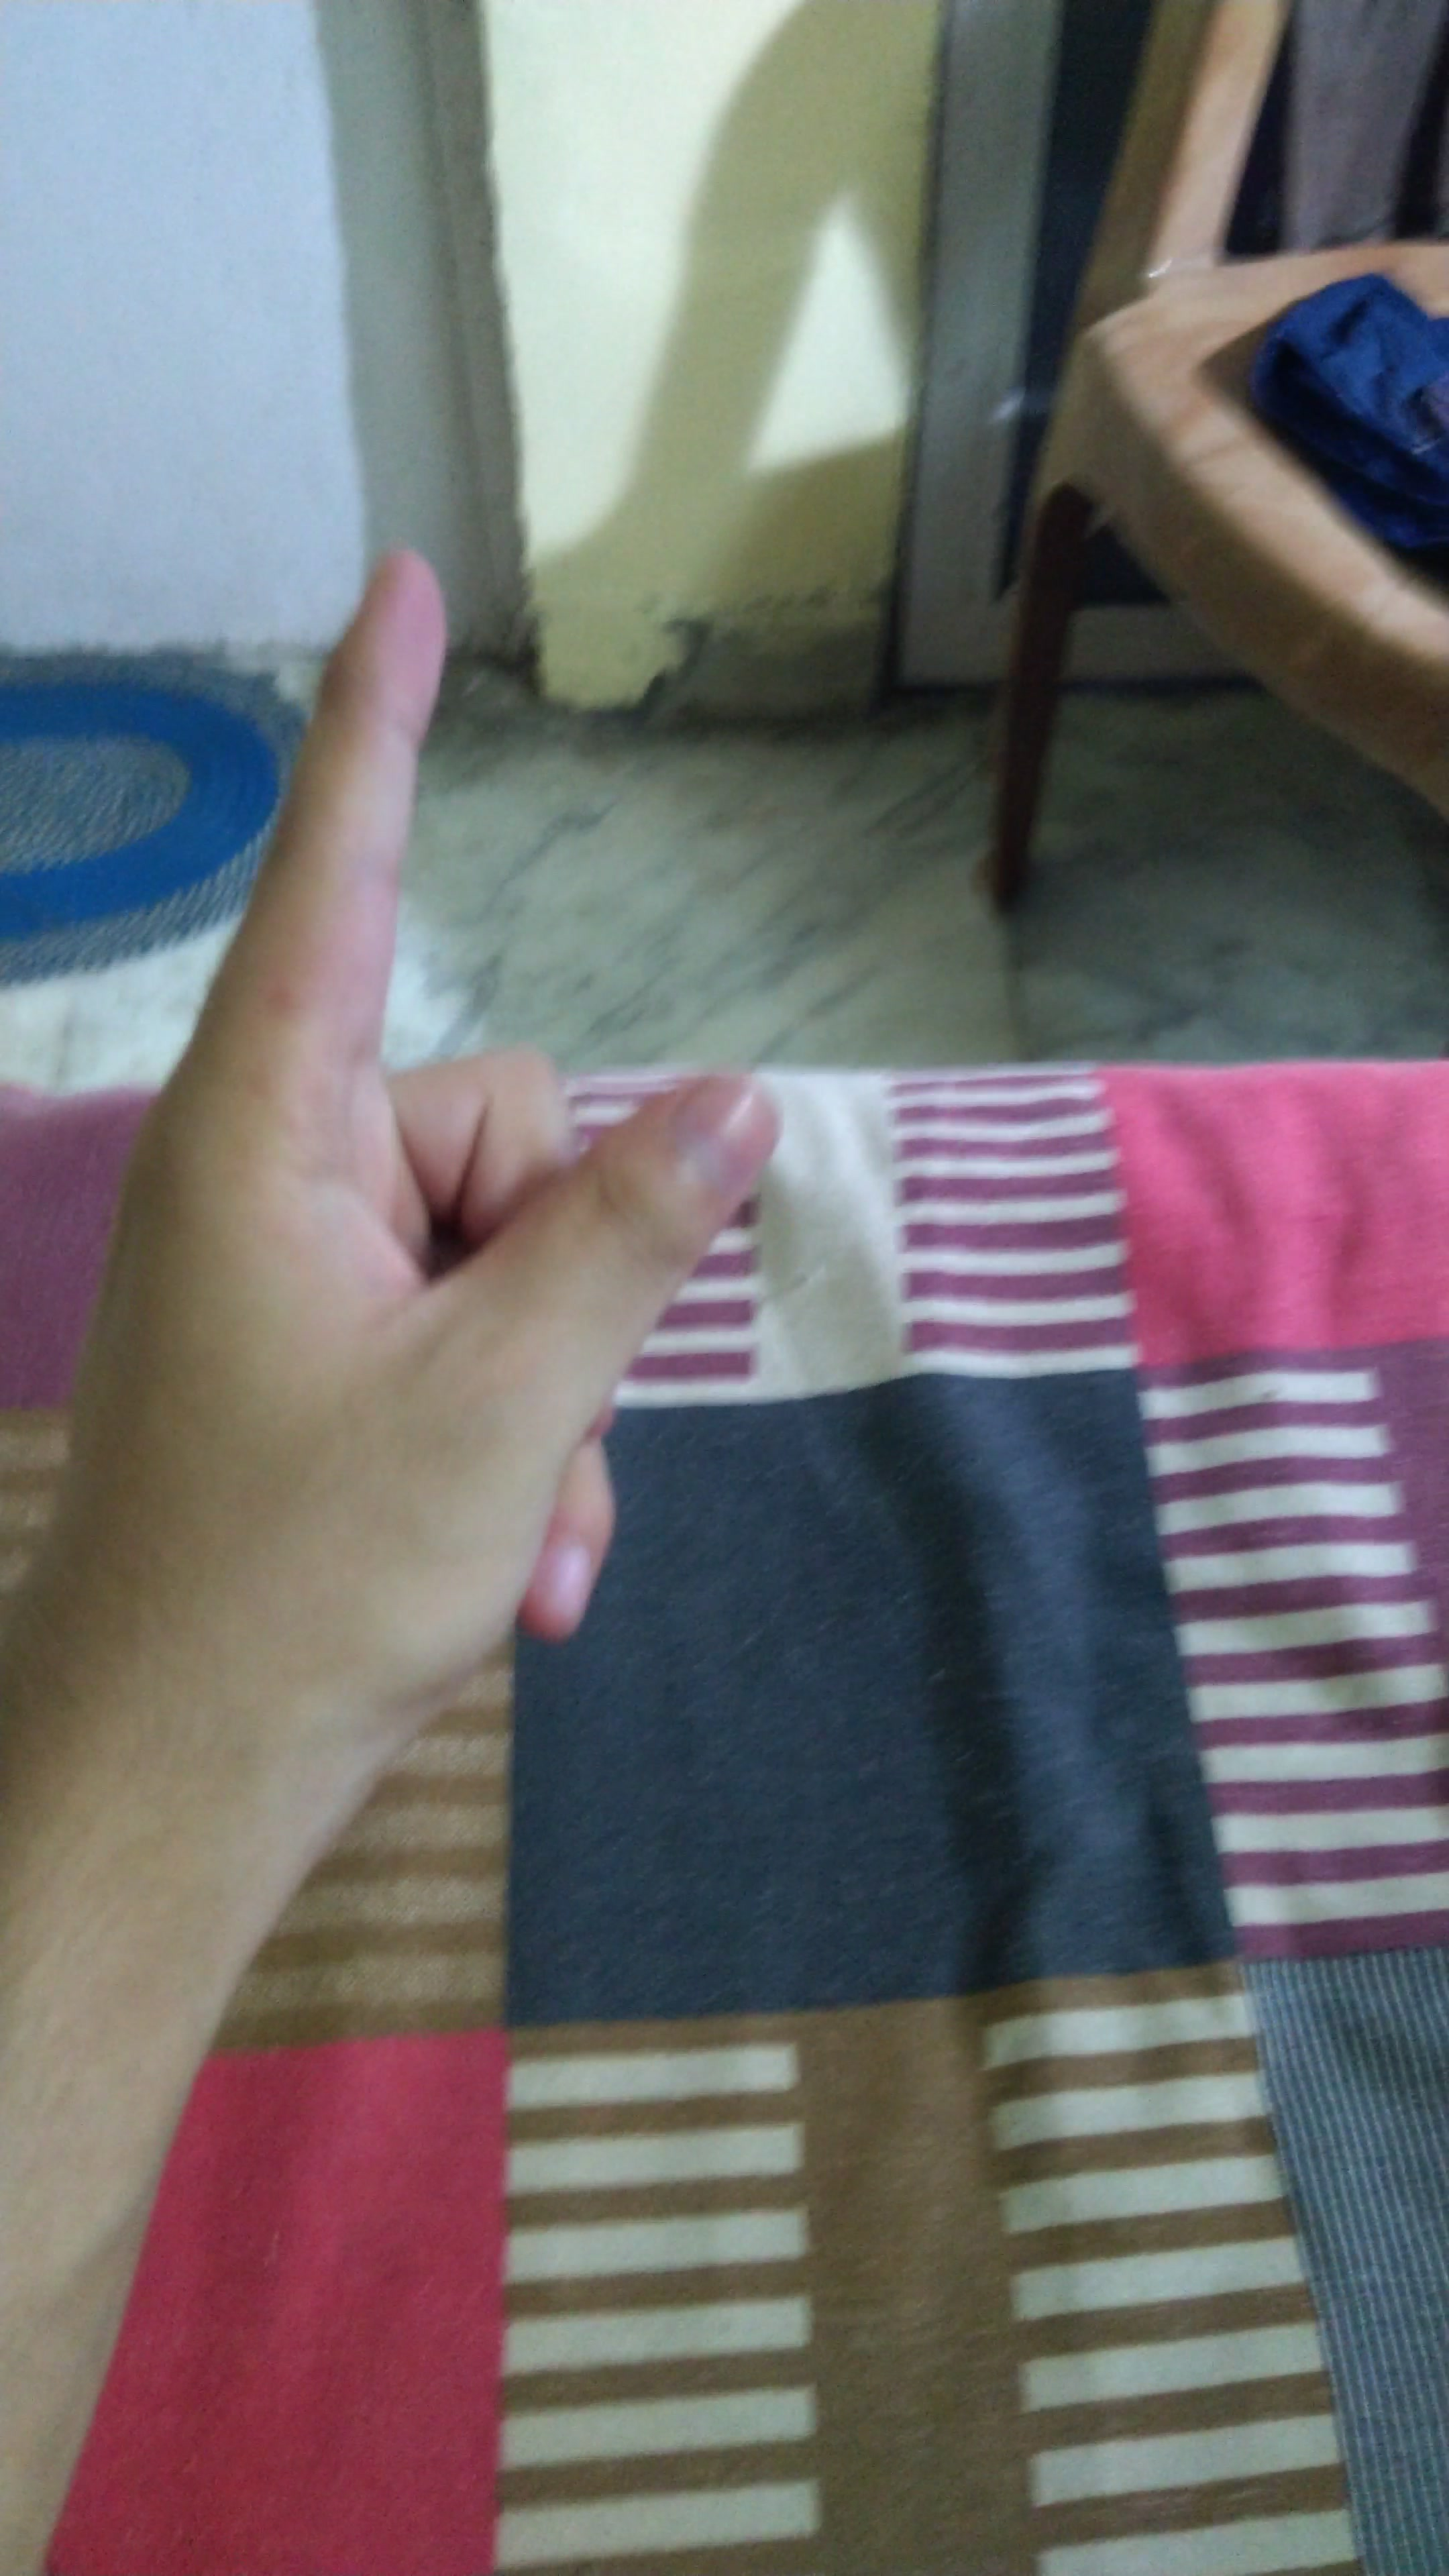hand: (57, 527, 812, 1766)
